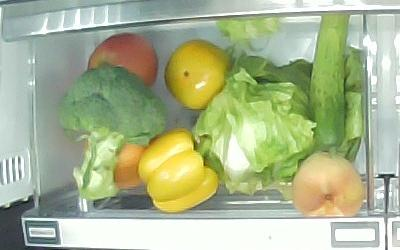apple: (87, 33, 159, 88)
broccoli: (59, 63, 167, 201)
cucumber: (310, 15, 345, 159)
lettuce: (193, 57, 364, 193)
paprika: (138, 128, 218, 212)
peach: (293, 152, 362, 218)
persimmon: (164, 39, 229, 111)
